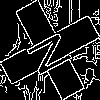N: (25, 25, 83, 79)
